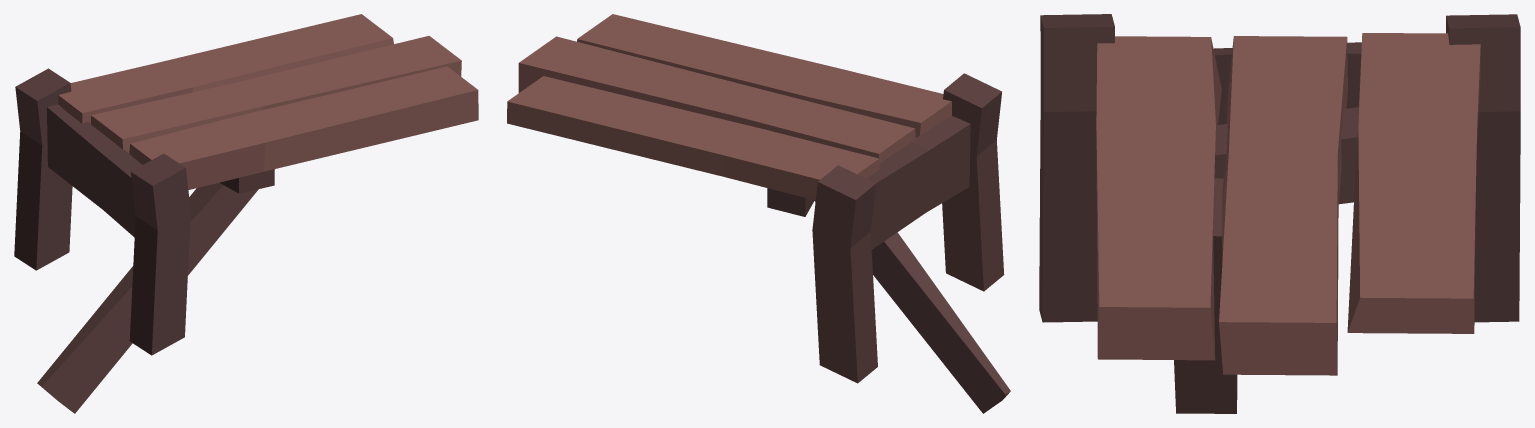
Rendered from LightRoseWoodFloorSmallPlatform1.fbx.
3 renders of one model, left to right at view 1: azimuth 30°, elevation 25°; view 2: azimuth 150°, elevation 25°; view 3: azimuth 270°, elevation 25°, orthographic. The views are drawn at different scales.
Visible parts, largest first — view 1: LightRoseWoodFloorSmallPlatform1; view 2: LightRoseWoodFloorSmallPlatform1; view 3: LightRoseWoodFloorSmallPlatform1.
Boxes of the visible parts, x1,y1,x2,y2 form: LightRoseWoodFloorSmallPlatform1: (14,14,478,413); LightRoseWoodFloorSmallPlatform1: (507,14,1010,413); LightRoseWoodFloorSmallPlatform1: (1039,14,1520,413).
Size of the model in its own units: 592 by 344 by 335.
2 materials, 2 textured.
